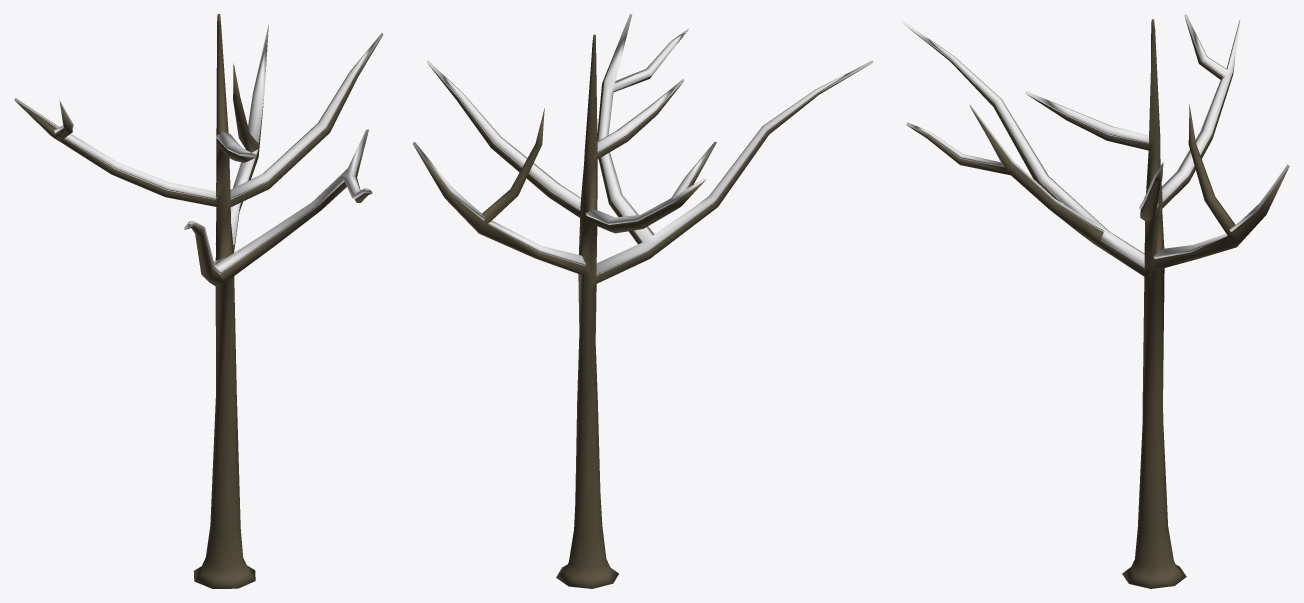
File: blender env assets dead tree 1.fbx
The picture shows the model from 3 angles, left to right: view 1: azimuth 30°, elevation 25°; view 2: azimuth 150°, elevation 25°; view 3: azimuth 270°, elevation 25°; orthographic projection. The views are drawn at different scales.
Visible parts, largest first — view 1: Cylinder.059; view 2: Cylinder.059; view 3: Cylinder.059.
Boxes of the visible parts, box(x1,y1,x2,y2) form: Cylinder.059: box(14, 14, 383, 588); Cylinder.059: box(412, 14, 873, 588); Cylinder.059: box(902, 14, 1289, 588).
Size of the model in its own units: 164 by 266 by 169.
